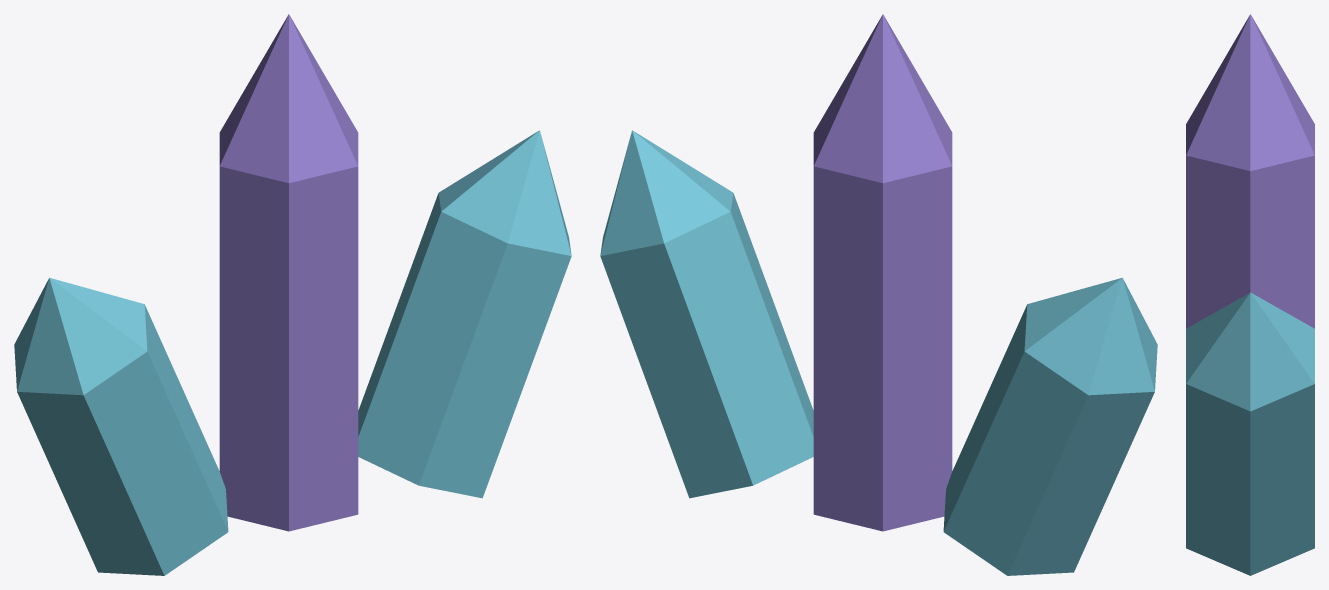
Rendered from mat_crystal.glb.
3 renders of one model, left to right at view 1: azimuth 30°, elevation 25°; view 2: azimuth 150°, elevation 25°; view 3: azimuth 270°, elevation 25°, orthographic. The views are drawn at different scales.
Visible parts, largest first — view 1: _crystal; view 2: _crystal; view 3: _crystal.
Part boxes in pixels (<box>): _crystal: <box>14,14,571,575</box>; _crystal: <box>600,14,1157,575</box>; _crystal: <box>1186,14,1314,575</box>.
Size of the model in its own units: 0.9555 by 0.8467 by 0.2079.
